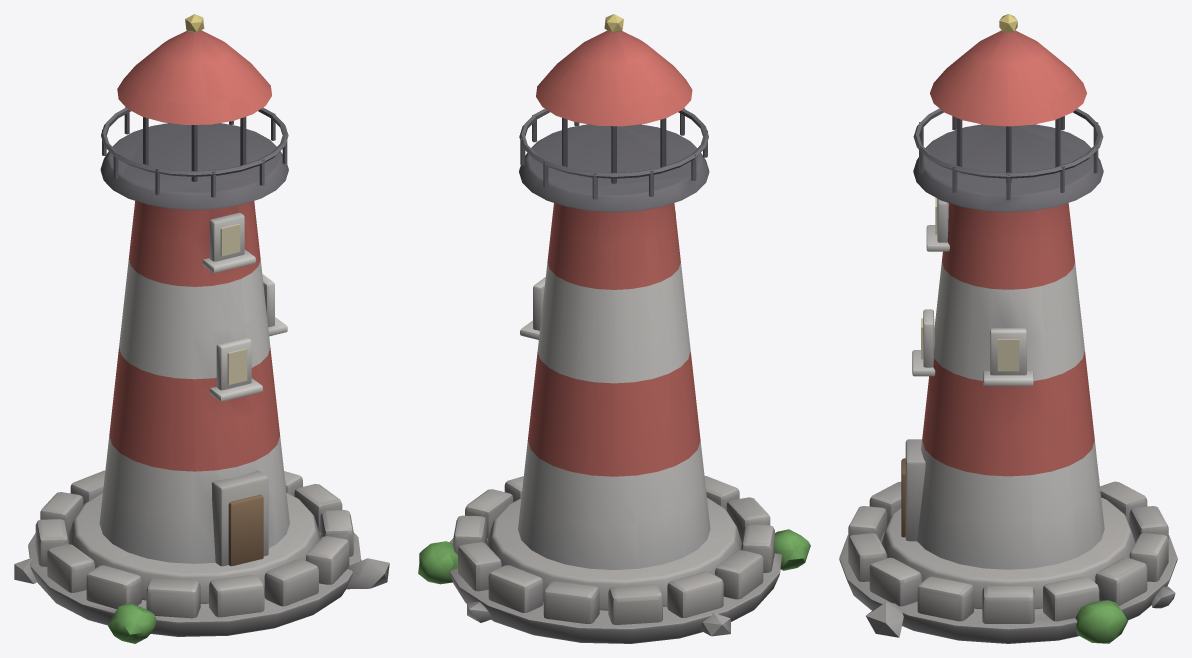
File: tower.glb
3 views of the same model, side by side, from view 1: azimuth 30°, elevation 25°; view 2: azimuth 150°, elevation 25°; view 3: azimuth 270°, elevation 25° (orthographic).
Parts seen in each view (by area): view 1: main, glow; view 2: main; view 3: main, glow.
Part boxes in pixels (x1=…): main: x1=14, y1=14, x2=389, y2=643; glow: x1=220, y1=224, x2=247, y2=384; main: x1=418, y1=14, x2=810, y2=643; main: x1=839, y1=14, x2=1177, y2=643; glow: x1=921, y1=197, x2=1019, y2=371.
Bounding box in the file's own units: 1.56 × 2.86 × 1.55.
